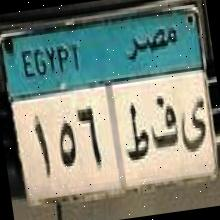1: (31, 110, 56, 182)
5: (54, 118, 81, 174)
6: (73, 96, 109, 180)
Taa: (120, 101, 154, 171)
faa: (144, 89, 183, 159)
yaa: (175, 88, 213, 160)
